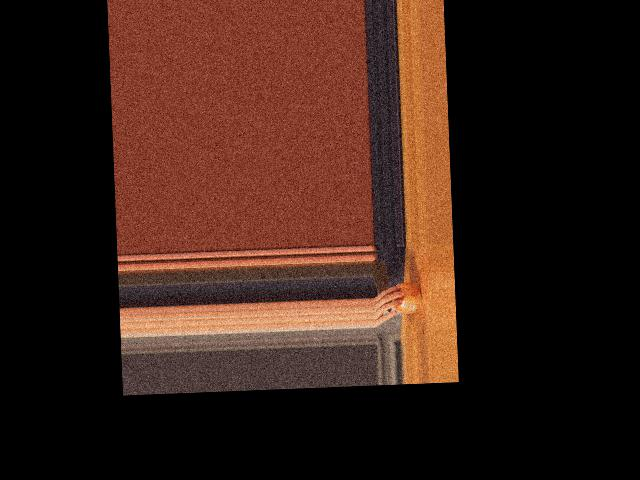onion: (390, 281, 422, 313)
